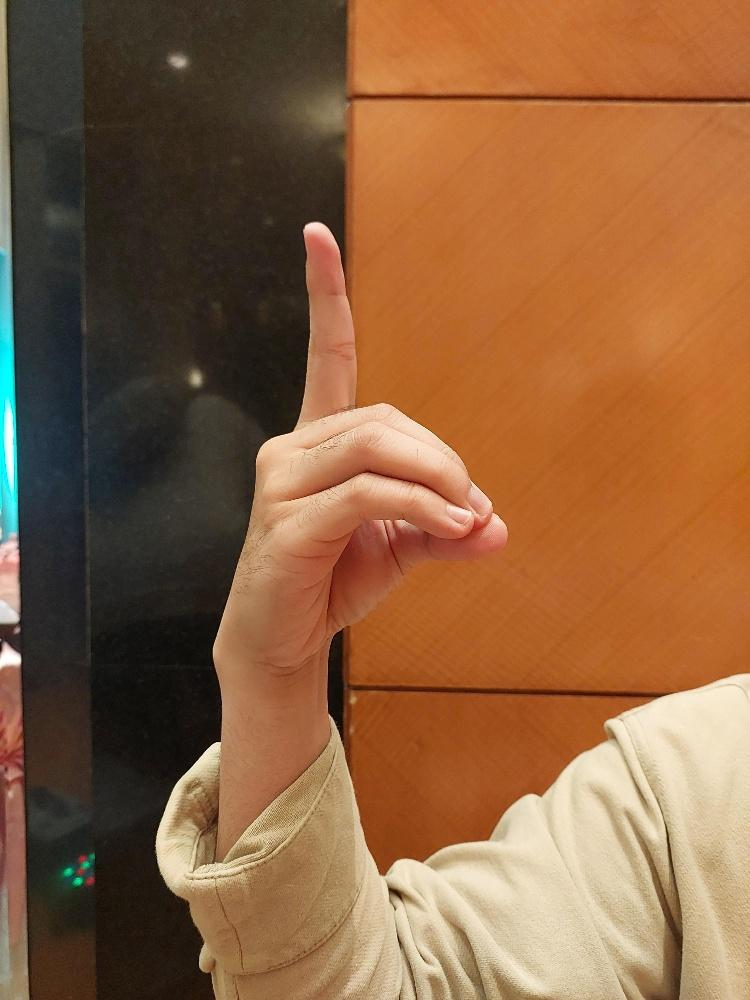d: (210, 218, 508, 670)
